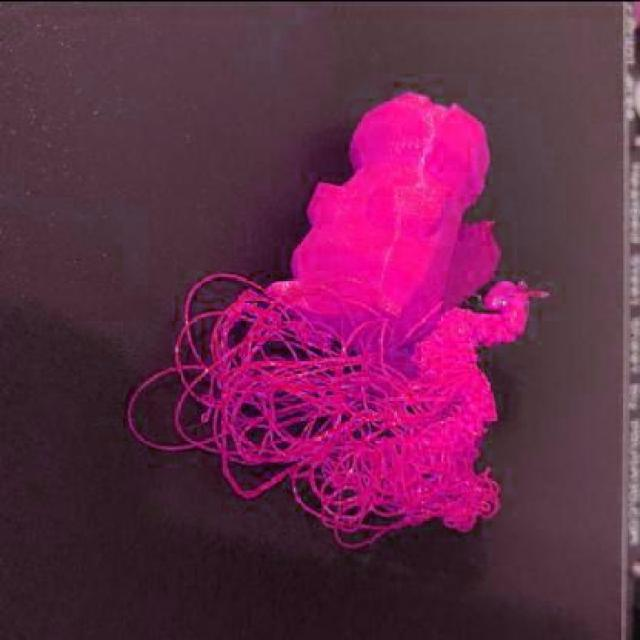Spaghetti: (126, 270, 551, 548)
